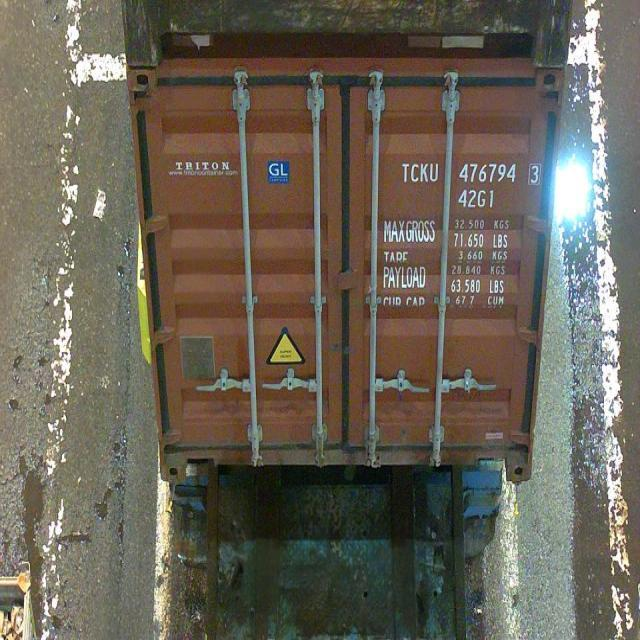ISO: (460, 189, 496, 209)
container_number: (399, 158, 542, 184)
